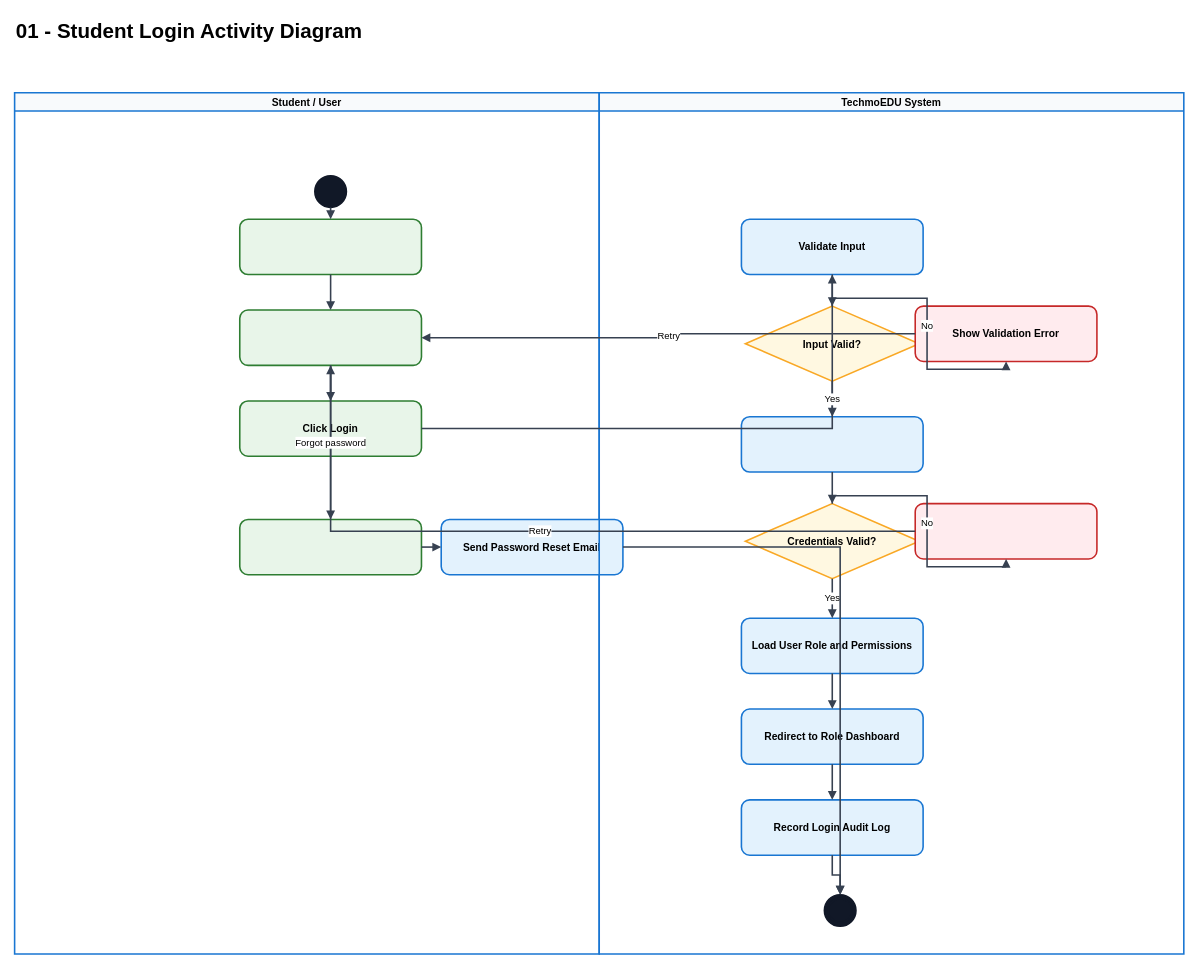
Image size: 1198x968. Some labels were removed from this diagram. Each missing label, with the centre of its shape:
Enter Email and Password: the point at 330,337
Forgot Password Optional: the point at 330,546
Open Login Page: the point at 330,246
Show Login Failed Message: the point at 1005,530
Verify Credentials Firebase Auth: the point at 832,444
